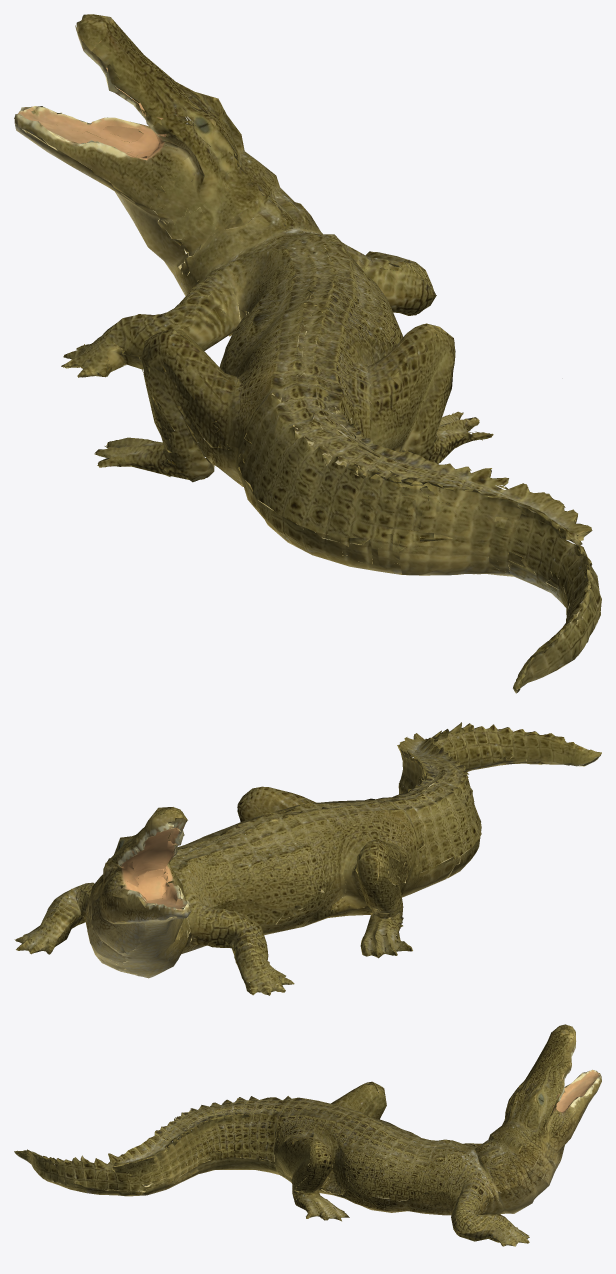
Rendered from crocodile.glb.
3 renders of one model, top to bottom at view 1: azimuth 30°, elevation 25°; view 2: azimuth 150°, elevation 25°; view 3: azimuth 270°, elevation 25°, orthographic. The views are drawn at different scales.
Visible parts, largest first — view 1: Object_2; view 2: Object_2; view 3: Object_2.
Part boxes in pixels (<box>): Object_2: <box>14,14,601,693</box>; Object_2: <box>14,722,601,995</box>; Object_2: <box>14,1024,601,1246</box>.
Bounding box in the file's own units: 2 × 1.26 × 4.2.
1 material, 1 textured.
